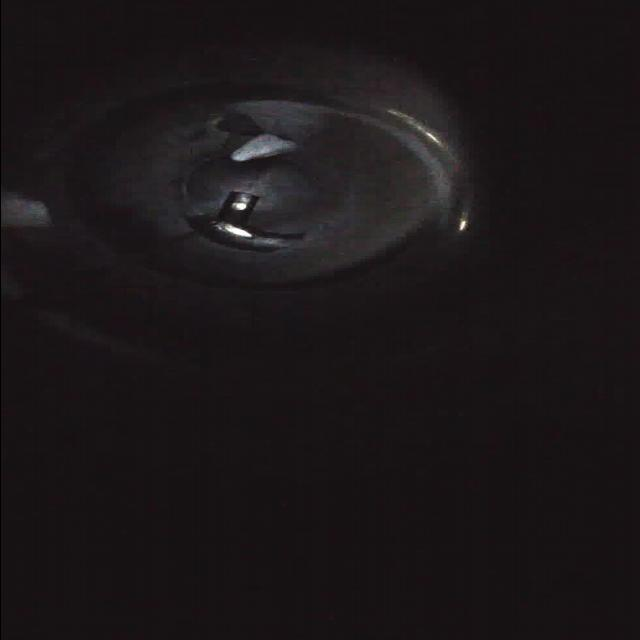impurity: (226, 130, 302, 168)
